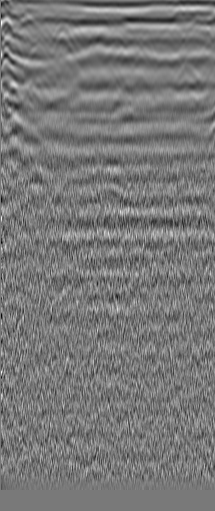오수: (13, 7, 54, 38)
우수: (176, 62, 196, 82)
